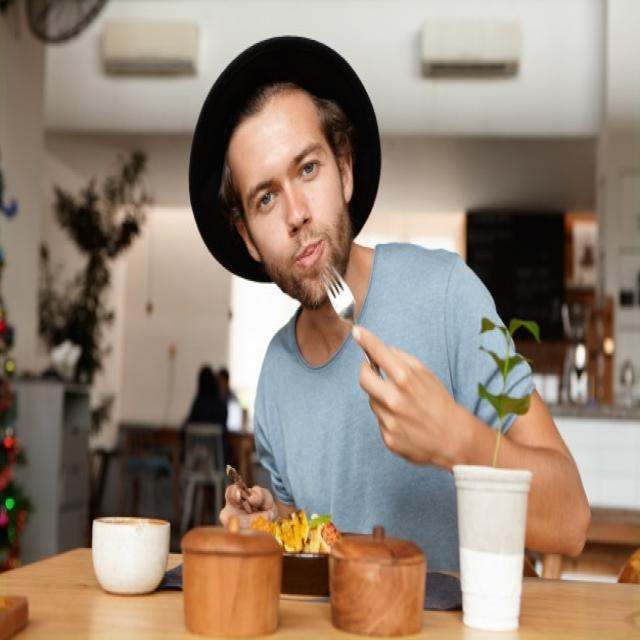hat: (189, 36, 379, 306)
